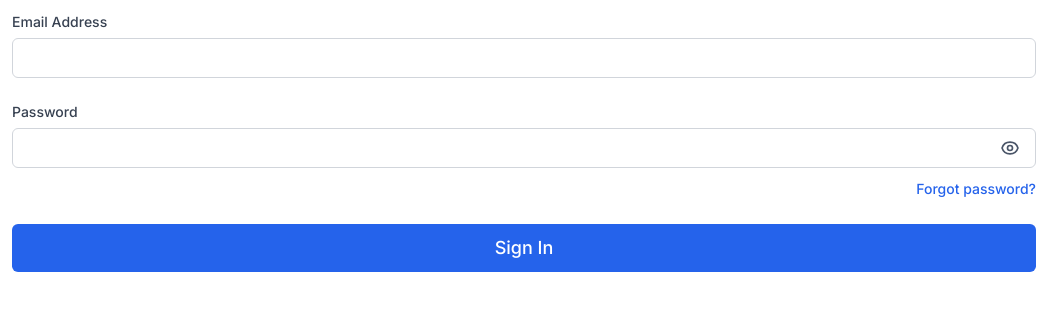
it: Error Recovery Flow - Integration Tests › 6.3: Error recovery flow › Error Message Accessibility › should associate field errors with inputs using aria-describedby
This screenshot has width=1048, height=315.
Note: Enter invalid email
In the field labelled "Email Address": (524, 58) [12,38,1036,78], type "invalid"
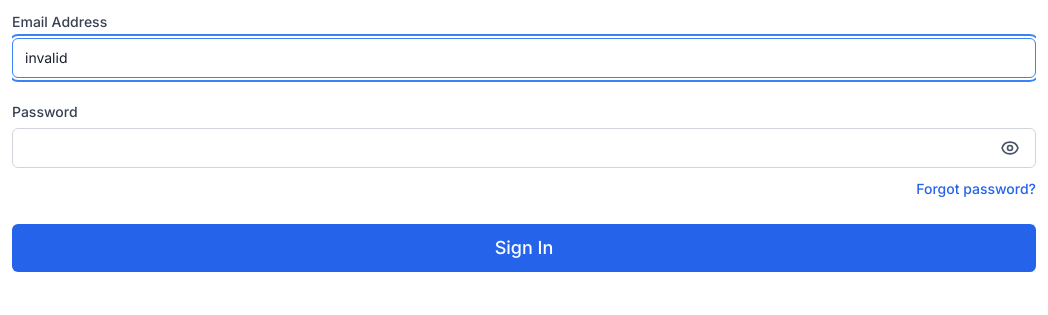
Press Tab
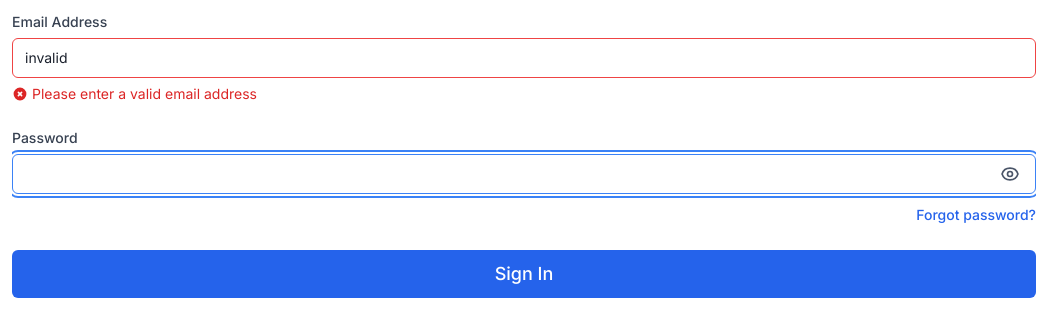
Now the text "Please enter a valid email address" is shown, box [32,84,257,104]
